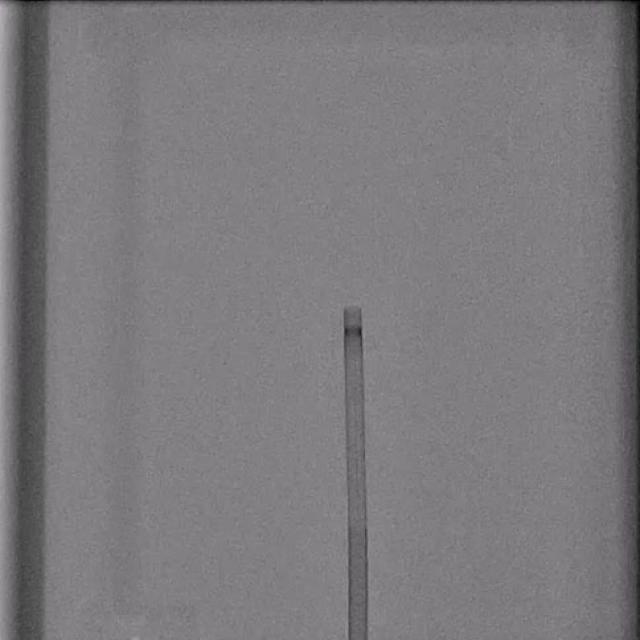bend: (348, 514, 368, 529)
entry: (348, 634, 366, 640)
marker: (344, 323, 364, 338)
tip: (344, 304, 362, 313)
